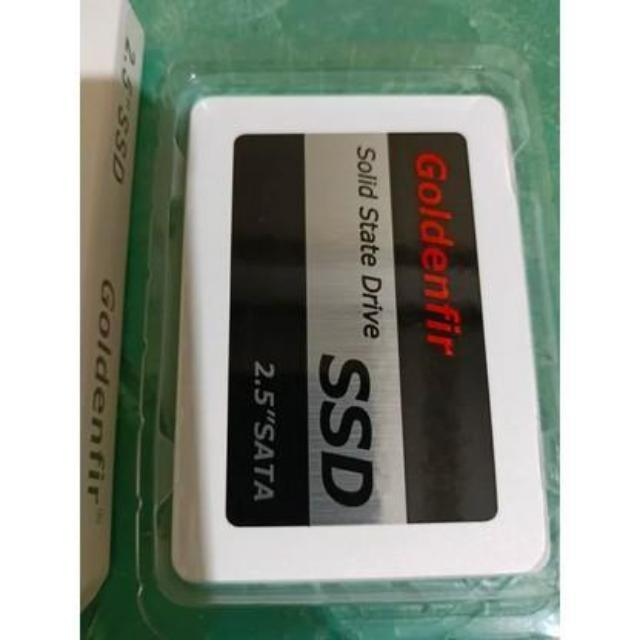DISK: (164, 84, 558, 586)
